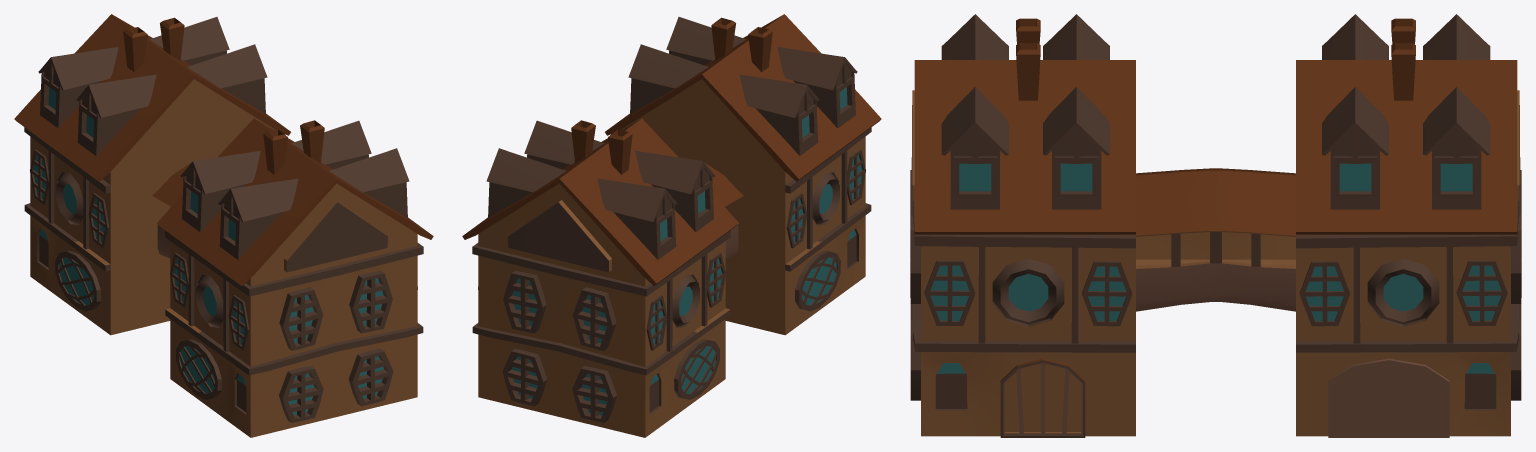
The model's file is Inn.fbx.
3 renders of one model, left to right at view 1: azimuth 30°, elevation 25°; view 2: azimuth 150°, elevation 25°; view 3: azimuth 270°, elevation 25°, orthographic. The views are drawn at different scales.
Visible parts, largest first — view 1: Plane.004; view 2: Plane.004; view 3: Plane.004.
Boxes of the visible parts, box(x1,y1,x2,y2) form: Plane.004: box(14, 14, 433, 437); Plane.004: box(462, 14, 881, 437); Plane.004: box(910, 14, 1521, 437).
Bounding box in the file's own units: 559 × 714 × 1138.
